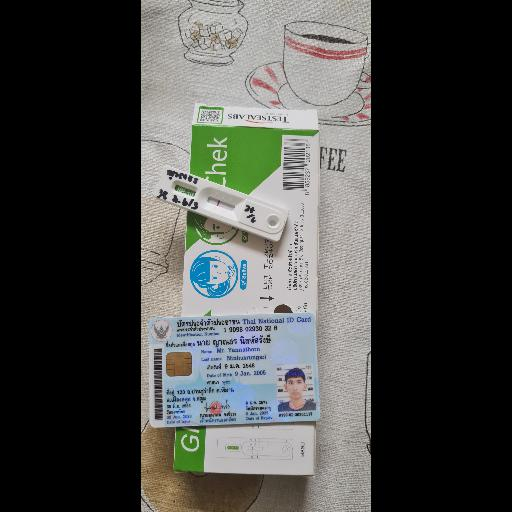Neg: (152, 164, 289, 242)
